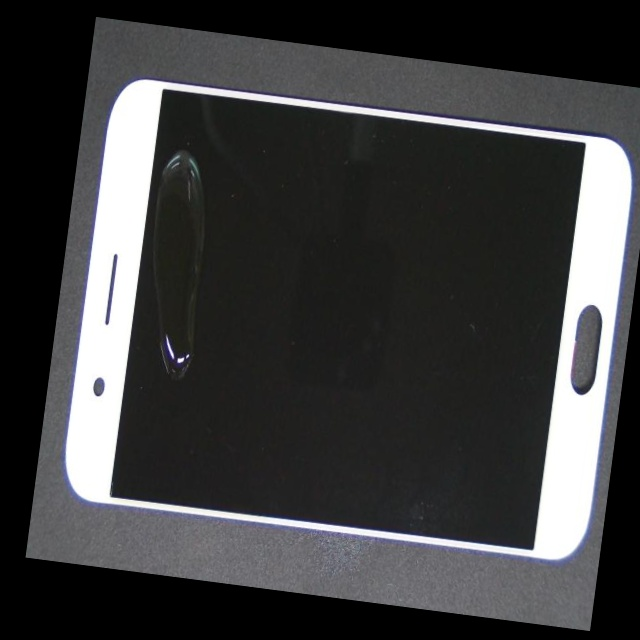oil: (71, 134, 240, 499)
